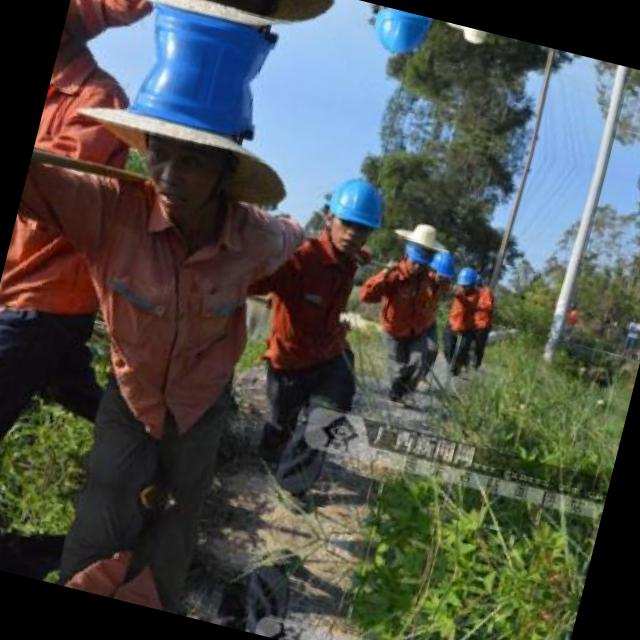helmet: (79, 50, 285, 236), (115, 0, 312, 91), (310, 162, 398, 258), (358, 2, 440, 68), (401, 215, 442, 260), (427, 244, 461, 290), (452, 258, 480, 293), (453, 24, 490, 49)
